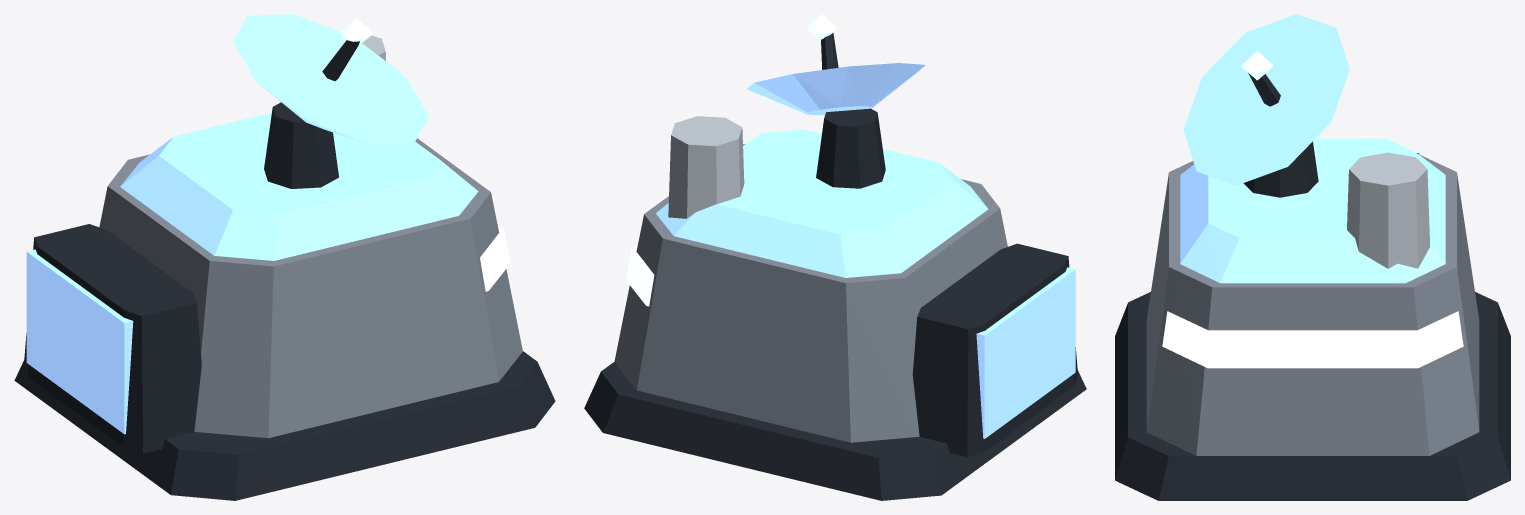
File: research_module.glb
3 renders of one model, left to right at view 1: azimuth 30°, elevation 25°; view 2: azimuth 150°, elevation 25°; view 3: azimuth 270°, elevation 25°, orthographic. The views are drawn at different scales.
Visible parts, largest first — view 1: Surf_armor, Surf_TEAM, Surf_dark, Surf_cyan; view 2: Surf_armor, Surf_dark, Surf_TEAM, Surf_light, Surf_cyan; view 3: Surf_armor, Surf_TEAM, Surf_dark, Surf_cyan, Surf_light, Surf_GLOW.
Part boxes in pixels (box(x1,y1,x2,y2)): Surf_armor: box(99, 138, 522, 438); Surf_TEAM: box(26, 14, 478, 434); Surf_dark: box(14, 40, 555, 500); Surf_cyan: box(480, 225, 510, 291); Surf_armor: box(614, 144, 1007, 442); Surf_dark: box(584, 33, 1086, 500); Surf_TEAM: box(656, 63, 1075, 438); Surf_light: box(668, 116, 744, 218); Surf_cyan: box(626, 245, 654, 306); Surf_armor: box(1146, 154, 1479, 455); Surf_TEAM: box(1180, 14, 1445, 283); Surf_dark: box(1115, 73, 1510, 500); Surf_cyan: box(1162, 311, 1463, 368); Surf_light: box(1347, 152, 1430, 268); Surf_GLOW: box(1241, 51, 1273, 80).
Bounding box in the file's own units: 2.8 × 2.55 × 2.42.
